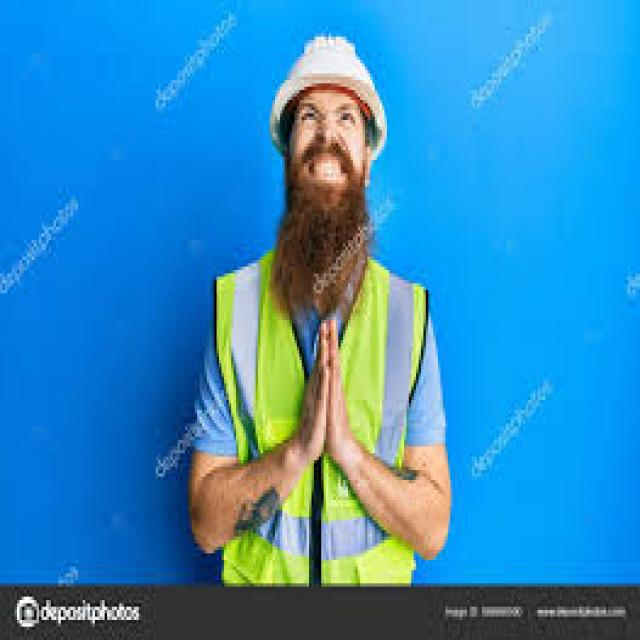Reflective-Jacket: (202, 253, 443, 590)
Safety-Helmet: (265, 30, 392, 147)
